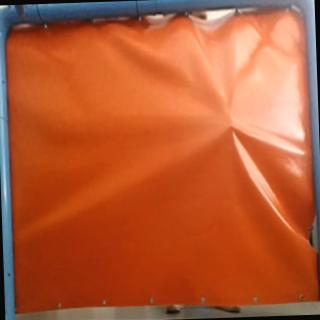Hit-hRxx: (226, 120, 240, 133)
